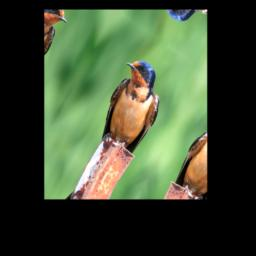Swallow: (85, 52, 177, 167)
